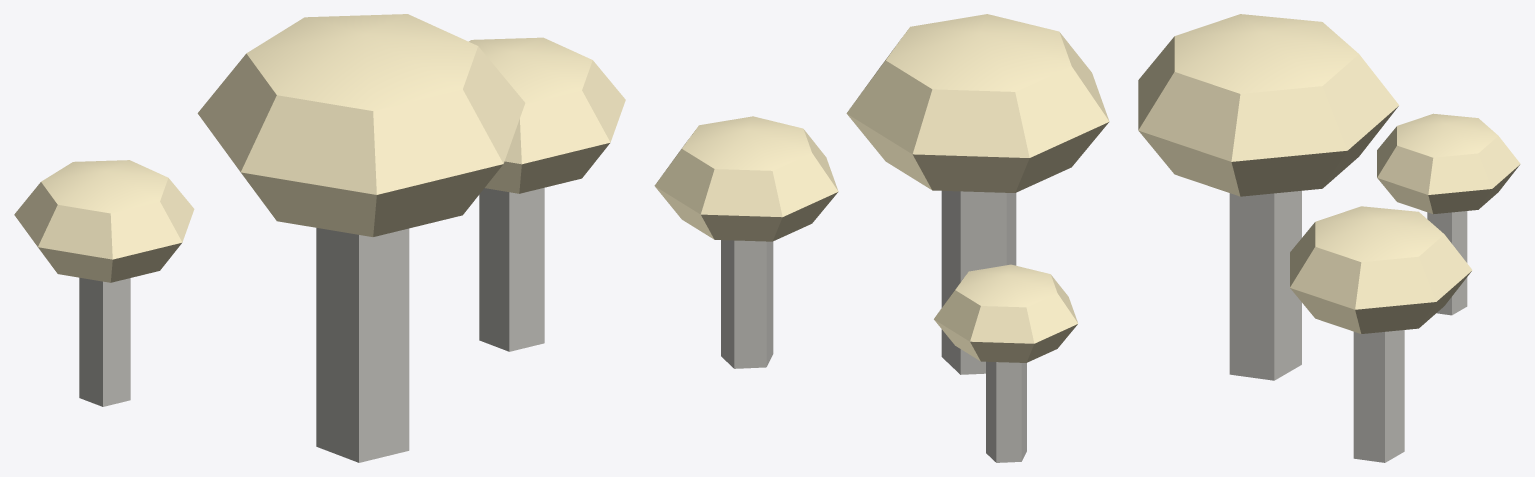
File: herb_mushroom.gltf
The picture shows the model from 3 angles, left to right: view 1: azimuth 30°, elevation 25°; view 2: azimuth 150°, elevation 25°; view 3: azimuth 270°, elevation 25°; orthographic projection. The views are drawn at different scales.
Visible parts, largest first — view 1: Body; view 2: Body; view 3: Body.
Boxes of the visible parts, box(x1,y1,x2,y2) form: Body: box(14, 14, 625, 462); Body: box(654, 14, 1109, 462); Body: box(1138, 14, 1520, 462).
Size of the model in its own units: 0.4462 by 0.32 by 0.3341.
